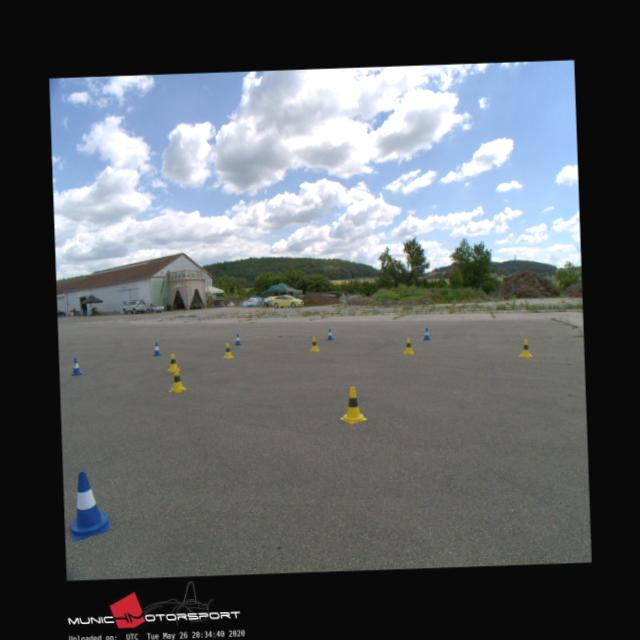blue_cone: (68, 470, 110, 540), (70, 357, 82, 375), (152, 341, 160, 354), (233, 332, 241, 344), (422, 327, 430, 339), (326, 327, 333, 339)
yellow_cone: (338, 386, 366, 423), (167, 368, 186, 392), (518, 338, 532, 356), (166, 352, 180, 370), (402, 336, 413, 354), (222, 341, 233, 357), (308, 335, 318, 350)
